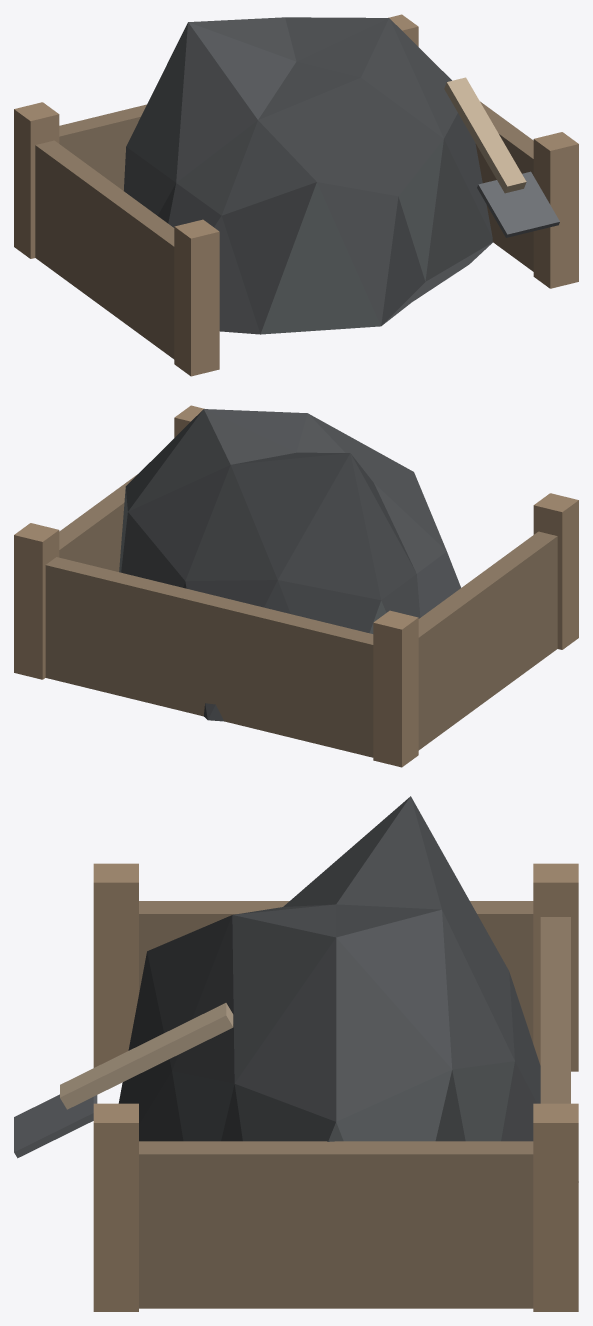
The model's file is rail_coal_pile.glb.
3 views of the same model, one above another, from view 1: azimuth 30°, elevation 25°; view 2: azimuth 150°, elevation 25°; view 3: azimuth 270°, elevation 25° (orthographic). The views are drawn at different scales.
Bounding box in the file's own units: 1.62 × 0.9661 × 1.49.
